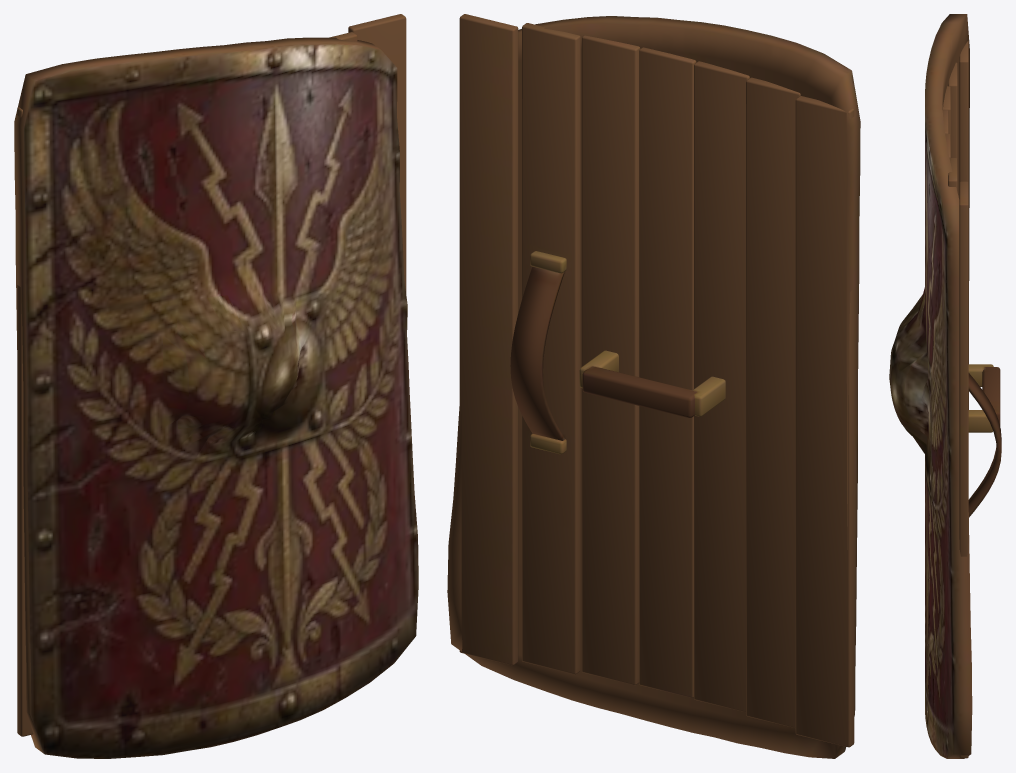
The model's file is centurion-ornate.glb.
3 renders of one model, left to right at view 1: azimuth 30°, elevation 25°; view 2: azimuth 150°, elevation 25°; view 3: azimuth 270°, elevation 25°, orthographic. The views are drawn at different scales.
Parts seen in each view (by area): view 1: centurion-ornate; view 2: centurion-ornate; view 3: centurion-ornate.
Boxes of the visible parts, left/top/right/bottom form: centurion-ornate: left=14, top=14, right=418, bottom=758; centurion-ornate: left=447, top=14, right=860, bottom=758; centurion-ornate: left=889, top=14, right=1001, bottom=758.
Bounding box in the file's own units: 0.5113 × 0.8653 × 0.1419.
Materials: 1 (1 with a texture image).
